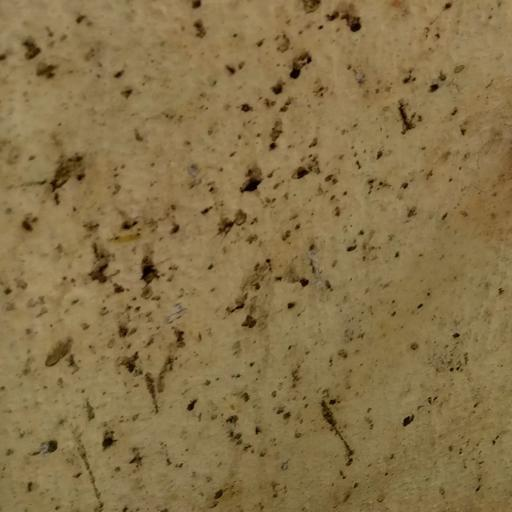stain: (16, 2, 511, 506)
